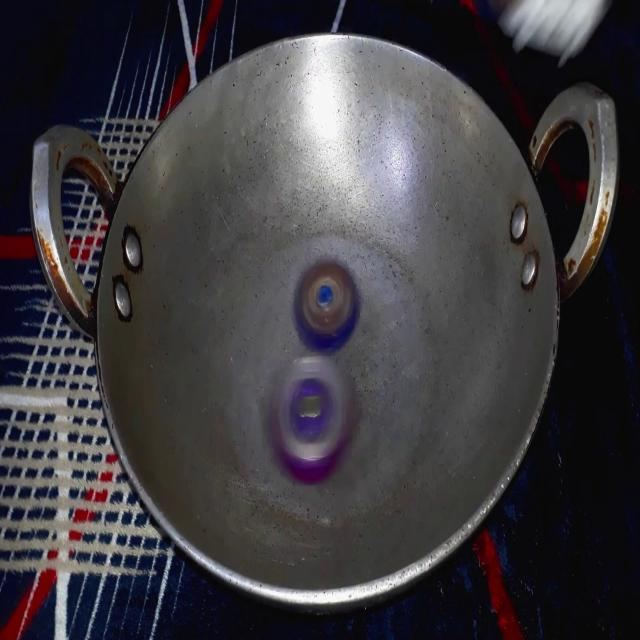beyblade: (261, 346, 366, 498), (286, 247, 365, 361)
